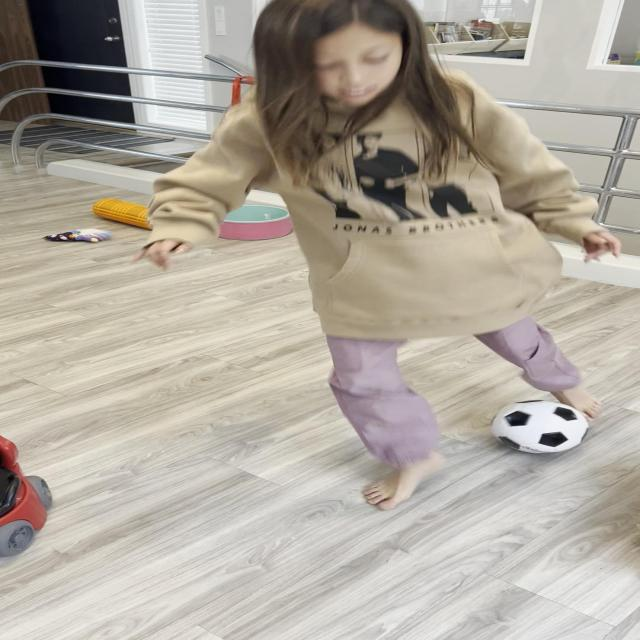Soccer Ball: (491, 399, 590, 453)
